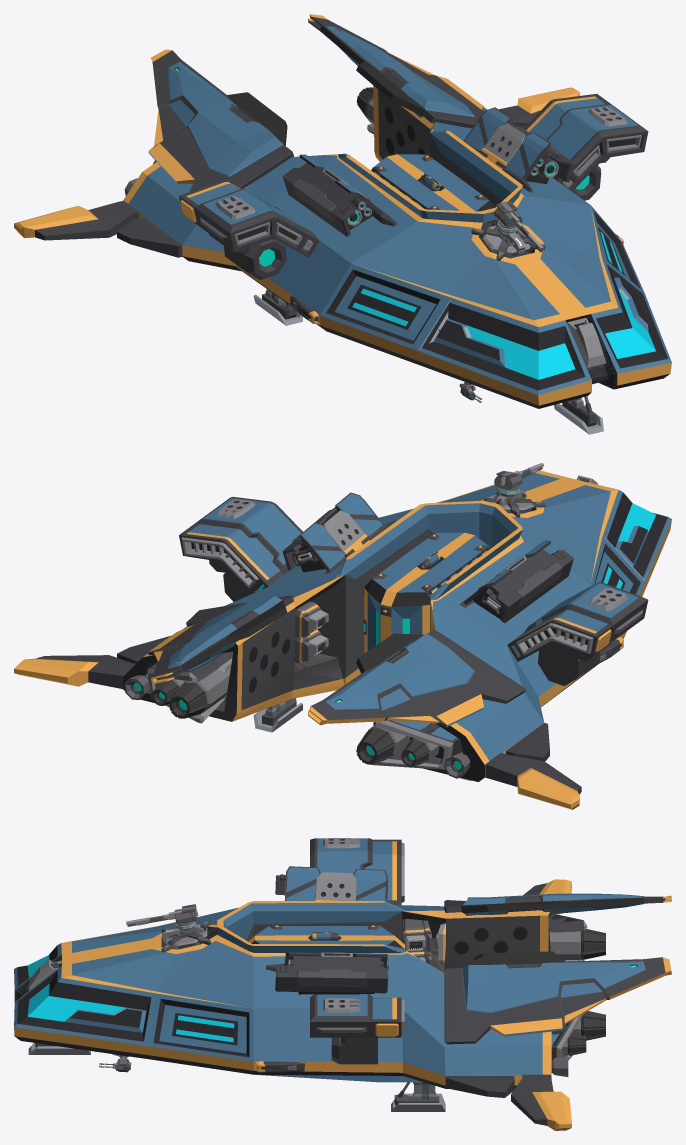
Rendered from FullShip_Vitaliy.fbx.
3 views of the same model, one above another, from view 1: azimuth 30°, elevation 25°; view 2: azimuth 150°, elevation 25°; view 3: azimuth 270°, elevation 25° (orthographic). The views are drawn at different scales.
Visible parts, largest first — view 1: polySurface150, polySurface154, SM_Veh_Part_Wing_01, SM_Veh_Part_Wing_019, SM_Veh_Part_Wing_017, SM_Veh_Part_Wing_016, SM_Veh_Part_Wing_013, SM_Veh_Part_Engine_04, SM_Veh_Part_Engine_20, polySurface64, SM_Veh_Part_Misc_04, SM_Prop_Turret_Large_01 (+4 smaller); view 2: polySurface150, polySurface154, SM_Veh_Part_Wing_01, SM_Veh_Part_Wing_017, SM_Veh_Part_Wing_016, SM_Veh_Part_Wing_019, polySurface64, SM_Veh_Part_Engine_04, SM_Veh_Part_Engine_20, SM_Veh_Part_Engine_21, SM_Veh_Part_Wing_013, SM_Veh_Part_Engine_08 (+9 smaller); view 3: polySurface150, polySurface154, SM_Veh_Part_Wing_019, SM_Veh_Part_Engine_04, SM_Veh_Part_Wing_017, SM_Veh_Part_Wing_016, SM_Veh_Part_Wing_018, SM_Veh_Part_Wing_01, SM_Veh_Part_Engine_20, SM_Veh_Part_Engine_21, polySurface64, SM_Veh_Part_Engine_08 (+8 smaller).
Part boxes in pixels (bbox=[...]): polySurface150: bbox=[123, 85, 671, 408]; polySurface154: bbox=[269, 130, 618, 326]; SM_Veh_Part_Wing_01: bbox=[148, 49, 293, 191]; SM_Veh_Part_Wing_019: bbox=[308, 14, 484, 128]; SM_Veh_Part_Wing_017: bbox=[523, 93, 648, 191]; SM_Veh_Part_Wing_016: bbox=[179, 180, 319, 257]; SM_Veh_Part_Wing_013: bbox=[14, 200, 182, 257]; SM_Veh_Part_Engine_04: bbox=[463, 107, 573, 192]; SM_Veh_Part_Engine_20: bbox=[282, 154, 397, 236]; polySurface64: bbox=[371, 154, 495, 211]; SM_Veh_Part_Misc_04: bbox=[209, 234, 286, 279]; SM_Prop_Turret_Large_01: bbox=[471, 220, 545, 260]; polySurface150: bbox=[123, 490, 671, 781]; polySurface154: bbox=[269, 470, 618, 644]; SM_Veh_Part_Wing_01: bbox=[308, 629, 525, 727]; SM_Veh_Part_Wing_017: bbox=[179, 497, 302, 593]; SM_Veh_Part_Wing_016: bbox=[507, 582, 648, 661]; SM_Veh_Part_Wing_019: bbox=[148, 595, 293, 684]; polySurface64: bbox=[364, 532, 490, 606]; SM_Veh_Part_Engine_04: bbox=[282, 492, 396, 573]; SM_Veh_Part_Engine_20: bbox=[460, 540, 573, 623]; SM_Veh_Part_Engine_21: bbox=[356, 720, 462, 769]; SM_Veh_Part_Wing_013: bbox=[485, 723, 581, 809]; SM_Veh_Part_Engine_08: bbox=[147, 651, 233, 723]; polySurface150: bbox=[14, 905, 551, 1088]; polySurface154: bbox=[61, 901, 407, 1008]; SM_Veh_Part_Wing_019: bbox=[444, 951, 671, 1044]; SM_Veh_Part_Engine_04: bbox=[266, 952, 388, 994]; SM_Veh_Part_Wing_017: bbox=[310, 994, 404, 1037]; SM_Veh_Part_Wing_016: bbox=[310, 838, 404, 905]; SM_Veh_Part_Wing_018: bbox=[445, 1074, 571, 1130]; SM_Veh_Part_Wing_01: bbox=[444, 893, 671, 915]; SM_Veh_Part_Engine_20: bbox=[275, 866, 388, 901]; SM_Veh_Part_Engine_21: bbox=[436, 914, 605, 964]; polySurface64: bbox=[248, 926, 404, 949]; SM_Veh_Part_Engine_08: bbox=[551, 1011, 605, 1059].
Bounding box in the file's own units: 4086 × 1239 × 4670.
